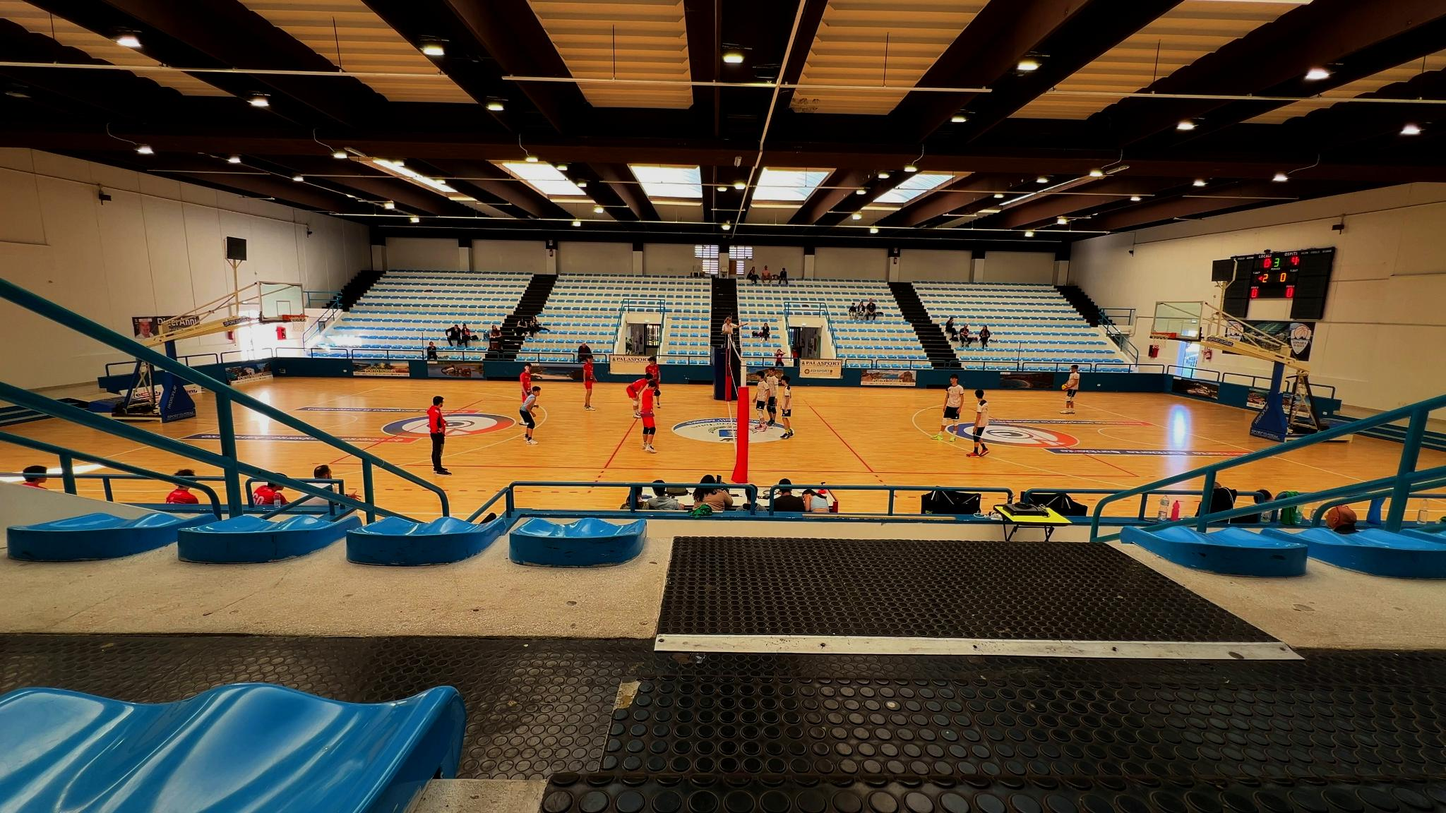volleyball court: (329, 398, 1141, 478)
